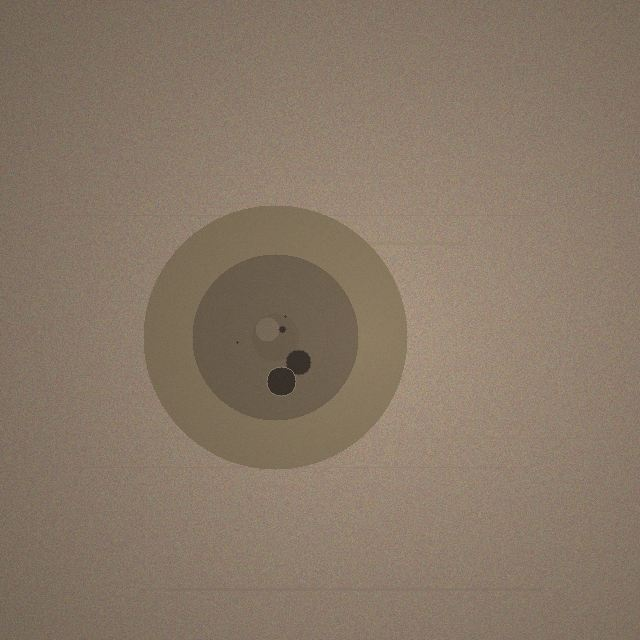shrinkage: (143, 205, 407, 469)
